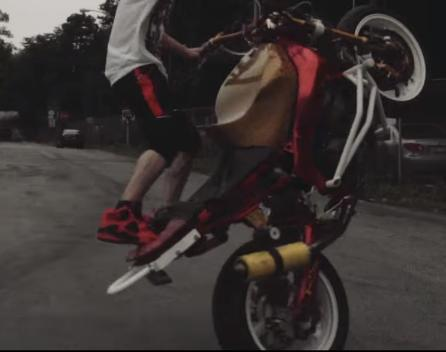sneaker: (91, 198, 178, 249)
